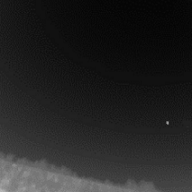Target: (164, 120, 170, 125)
